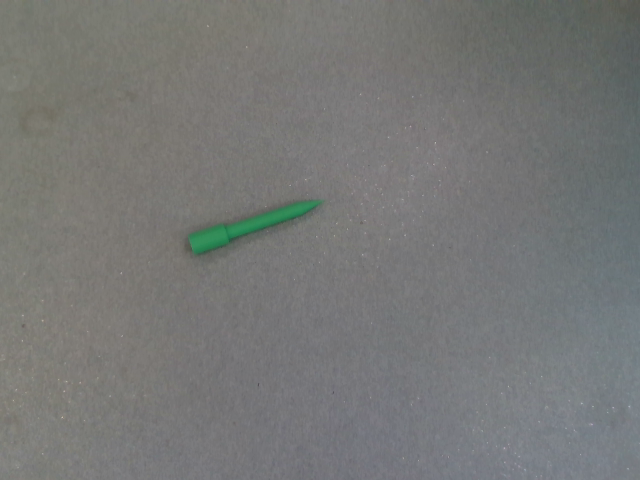Probe: (182, 192, 329, 263)
